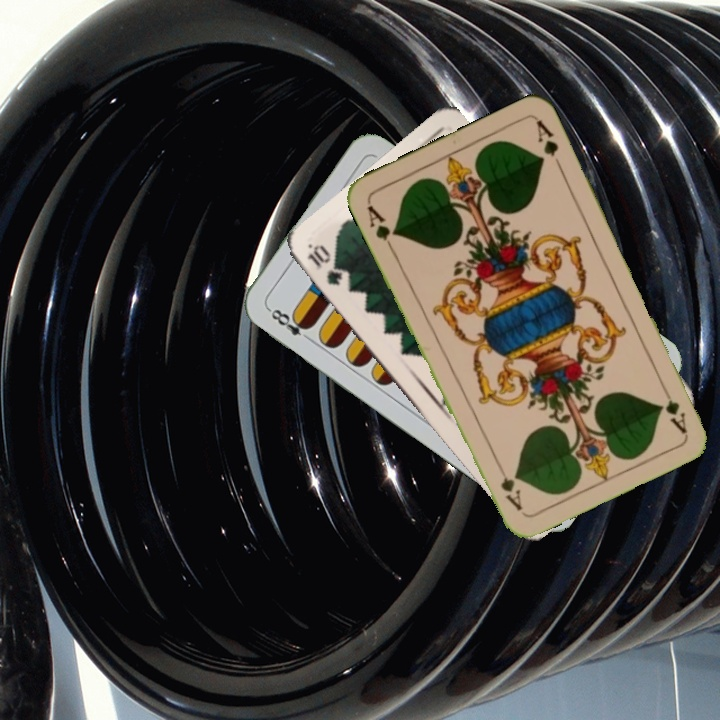E8: (263, 303, 314, 344)
G10: (303, 241, 346, 289)
GA: (362, 201, 400, 254), (657, 380, 690, 436)
